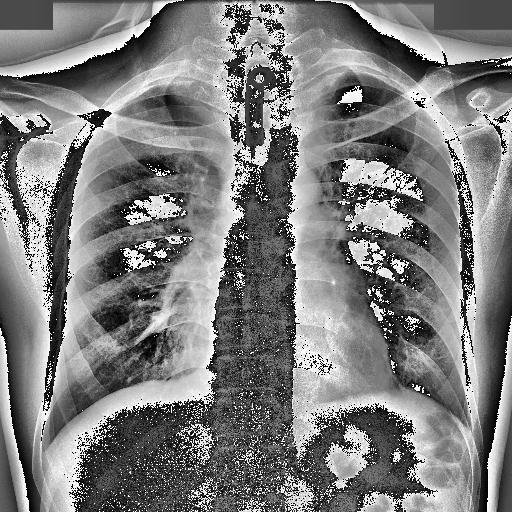11- Pleural thickening: (295, 63, 414, 121), (128, 66, 230, 127), (292, 65, 344, 145), (178, 72, 238, 139)
13- Pulmonary fibrosis: (136, 299, 182, 343)
7- Lung Opacity: (295, 63, 414, 121), (128, 66, 230, 127)
8- Nodule-Mass: (132, 103, 148, 117), (438, 297, 452, 311)
